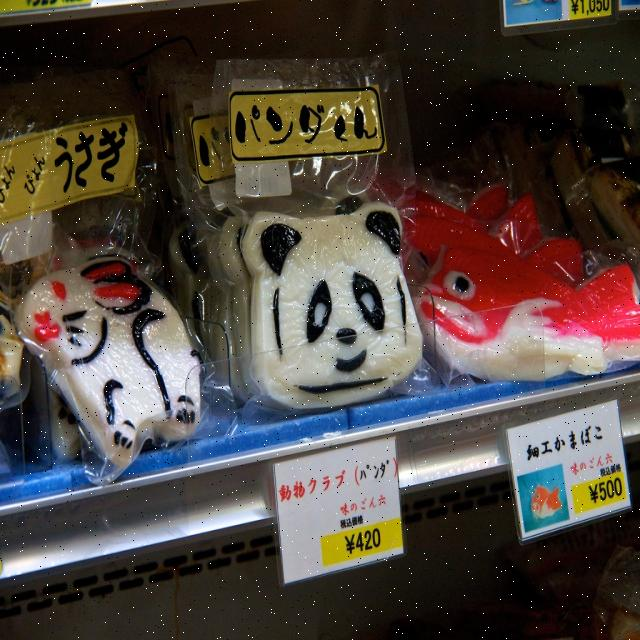panda: (246, 201, 424, 408)
